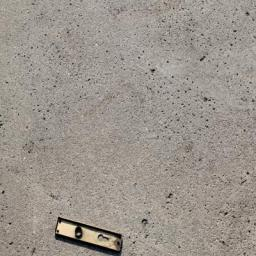FOD: (53, 214, 128, 256)
